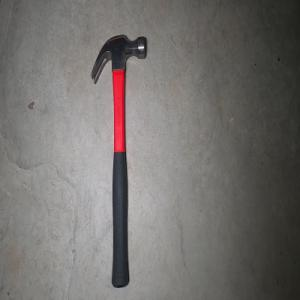Hammer: (90, 33, 146, 289)
